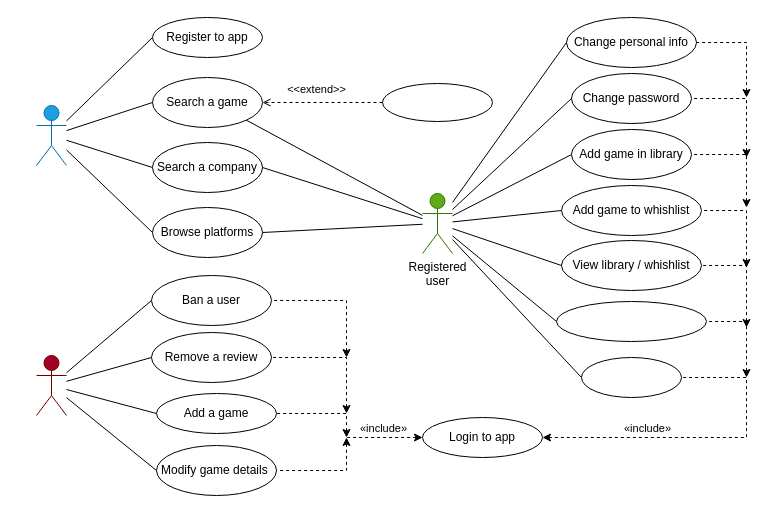
This 772x513 diagram has some shape labels left out. Each missing label, with the centre of its shape:
"Block a user" belongs at point (631, 377).
"Follow / unfollow a friend" belongs at point (631, 321).
"Moderator" belongs at point (51, 385).
"Unregistered user" belongs at point (51, 135).
"View game details" belongs at point (437, 102).
